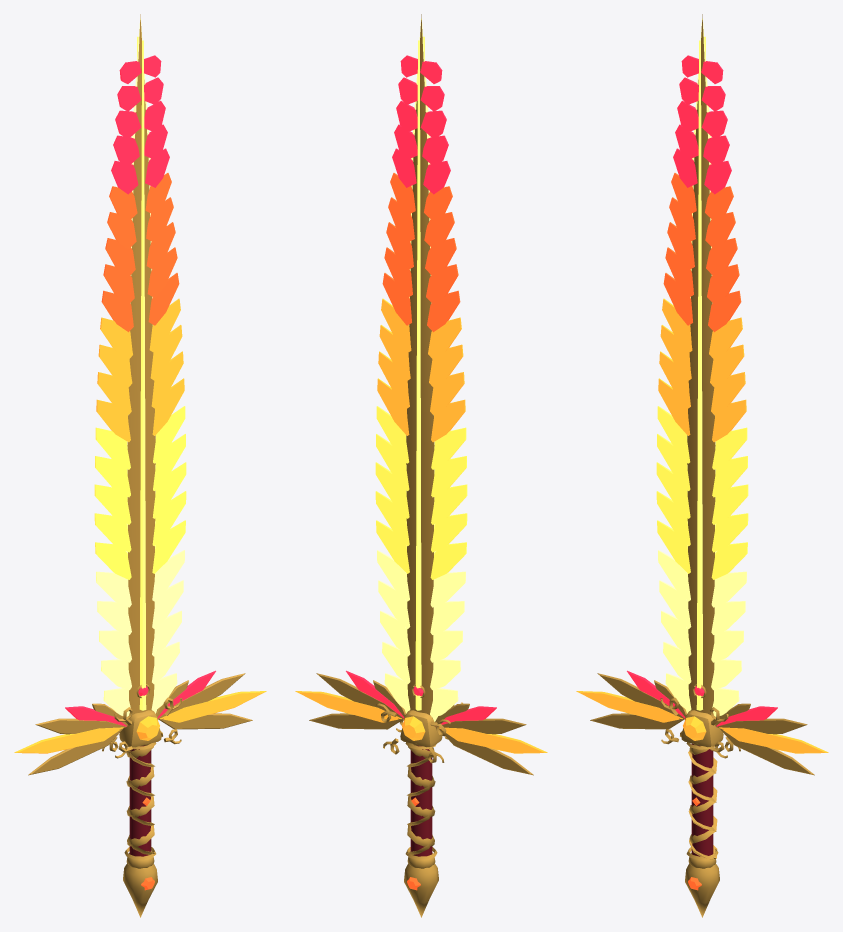
The model's file is phoenix_wing.glb.
The picture shows the model from 3 angles, left to right: view 1: azimuth 30°, elevation 25°; view 2: azimuth 150°, elevation 25°; view 3: azimuth 330°, elevation 25°; orthographic projection.
Parts seen in each view (by area): view 1: phoenix_wing; view 2: phoenix_wing; view 3: phoenix_wing.
Part boxes in pixels (box(x1,y1,x2,y2)): phoenix_wing: box(14, 14, 266, 917); phoenix_wing: box(295, 14, 547, 917); phoenix_wing: box(576, 14, 828, 917).
Bounding box in the file's own units: 0.4269 × 1.46 × 0.07.
